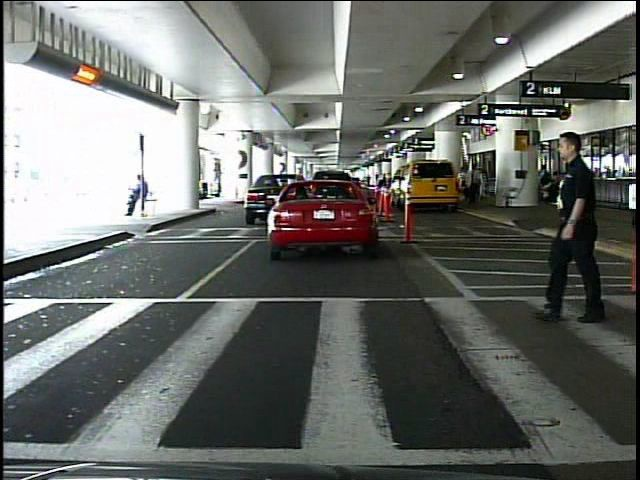person: (547, 136, 634, 328)
